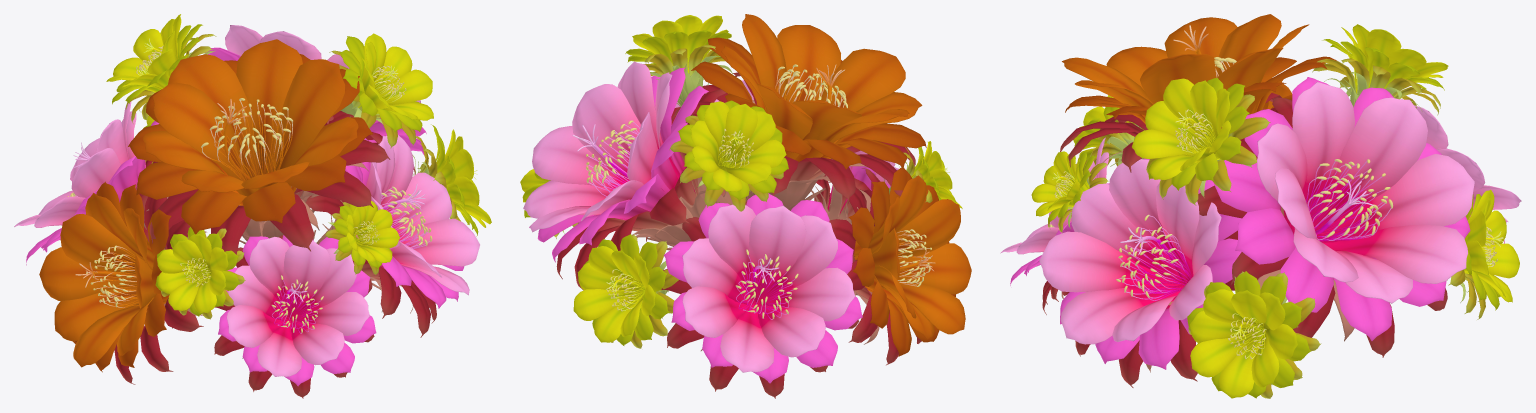
Rendered from flowerscopy.glb.
The picture shows the model from 3 angles, left to right: view 1: azimuth 30°, elevation 25°; view 2: azimuth 150°, elevation 25°; view 3: azimuth 270°, elevation 25°; orthographic projection. The views are drawn at different scales.
Parts seen in each view (by area): view 1: Cylinder.004_0, Cylinder.005_0 (×3), Cylinder.011_0 (×4), Cylinder.004, Cylinder.005, Cylinder.011; view 2: Cylinder.005_0 (×2), Cylinder.004_0, Cylinder.011_0 (×5), Cylinder.004, Cylinder.005; view 3: Cylinder.005_0 (×3), Cylinder.011_0 (×5), Cylinder.004_0, Cylinder.011, Cylinder.005.
Part boxes in pixels (left/top/right/bottom): Cylinder.004_0: left=128, top=39, right=390, bottom=254; Cylinder.005_0 (×3): left=14, top=25, right=479, bottom=337; Cylinder.011_0 (×4): left=106, top=14, right=491, bottom=319; Cylinder.004: left=39, top=181, right=206, bottom=384; Cylinder.005: left=214, top=235, right=376, bottom=398; Cylinder.011: left=325, top=201, right=399, bottom=274; Cylinder.005_0 (×2): left=523, top=61, right=862, bottom=398; Cylinder.004_0: left=671, top=14, right=926, bottom=210; Cylinder.011_0 (×5): left=520, top=15, right=962, bottom=348; Cylinder.004: left=828, top=167, right=971, bottom=365; Cylinder.005: left=811, top=150, right=899, bottom=224; Cylinder.005_0 (×3): left=1039, top=77, right=1521, bottom=387; Cylinder.011_0 (×5): left=1073, top=24, right=1519, bottom=398; Cylinder.004_0: left=1060, top=14, right=1336, bottom=172; Cylinder.011: left=1031, top=151, right=1108, bottom=232; Cylinder.005: left=1000, top=137, right=1109, bottom=314.
Size of the model in its own units: 2.98 by 1.89 by 2.86.
3 materials, 3 textured.
